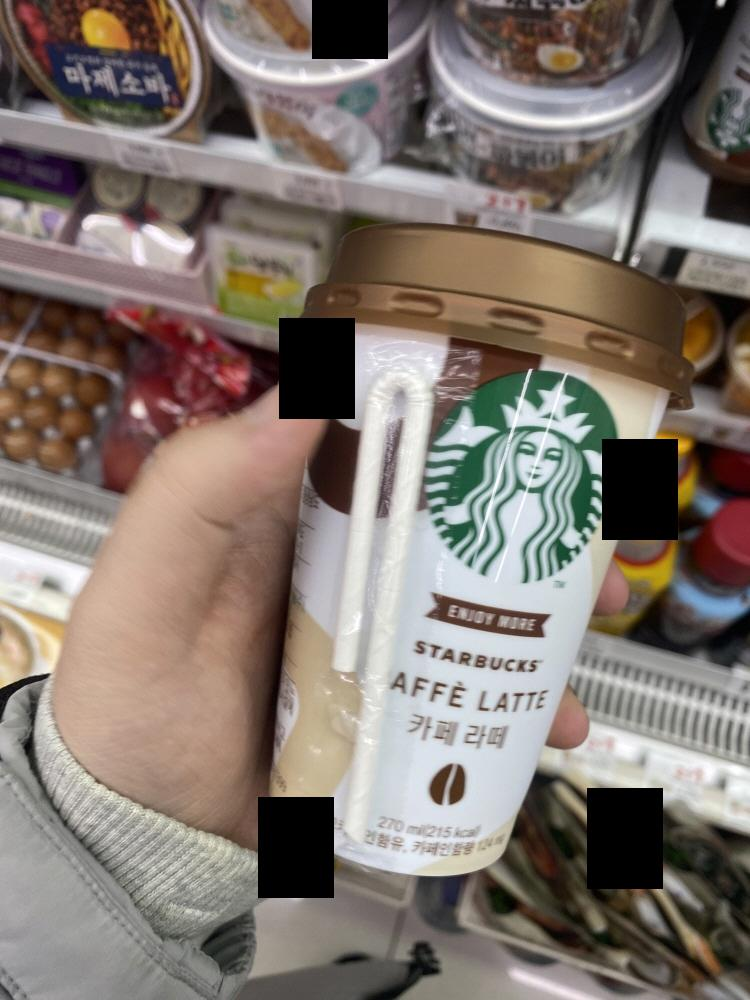starbucks_cafelatte: (288, 215, 679, 850)
